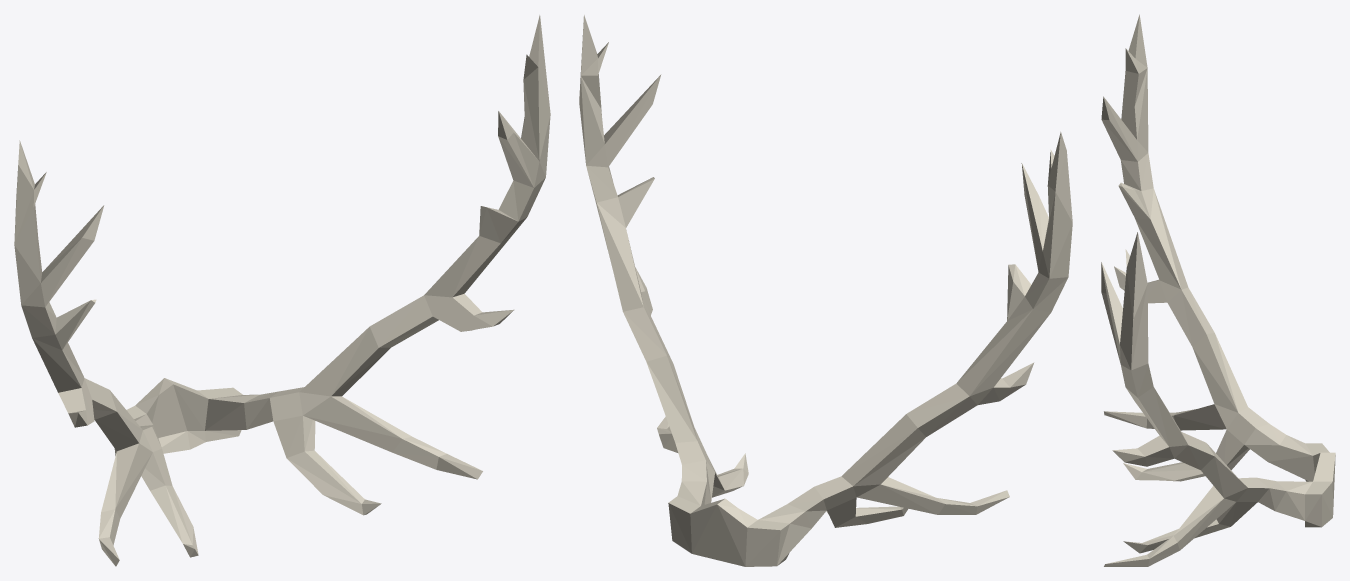
Rendered from animals-antlers-002.glb.
3 views of the same model, side by side, from view 1: azimuth 30°, elevation 25°; view 2: azimuth 150°, elevation 25°; view 3: azimuth 270°, elevation 25° (orthographic). The views are drawn at different scales.
Visible parts, largest first — view 1: Node; view 2: Node; view 3: Node.
Boxes of the visible parts, bbox=[...] form: Node: bbox=[14, 15, 550, 566]; Node: bbox=[579, 15, 1072, 566]; Node: bbox=[1101, 14, 1335, 566].
Bounding box in the file's own units: 20.39 × 16.69 × 9.
